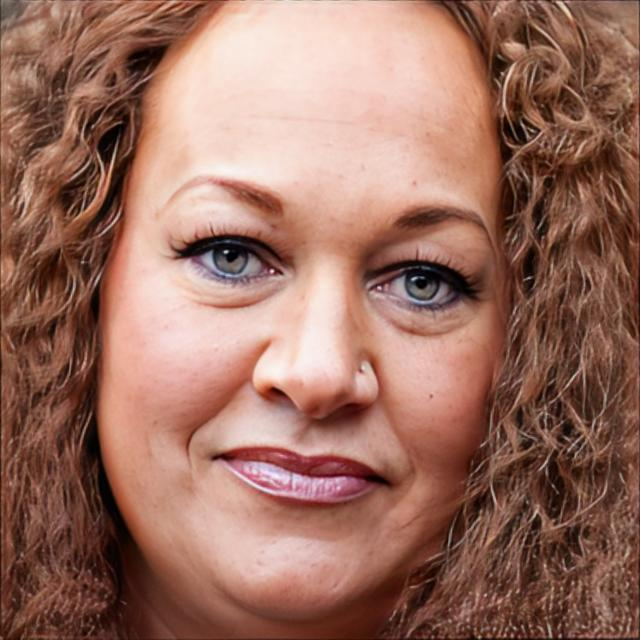content: (95, 0, 508, 640)
